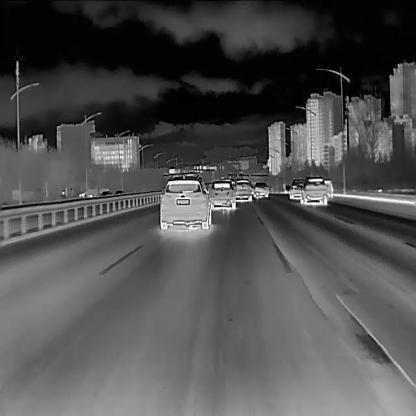car: (159, 173, 211, 228), (301, 176, 327, 207), (209, 178, 234, 209), (233, 179, 249, 202), (289, 179, 304, 200), (253, 181, 269, 198), (323, 180, 333, 198), (99, 190, 112, 196), (115, 190, 125, 195)
